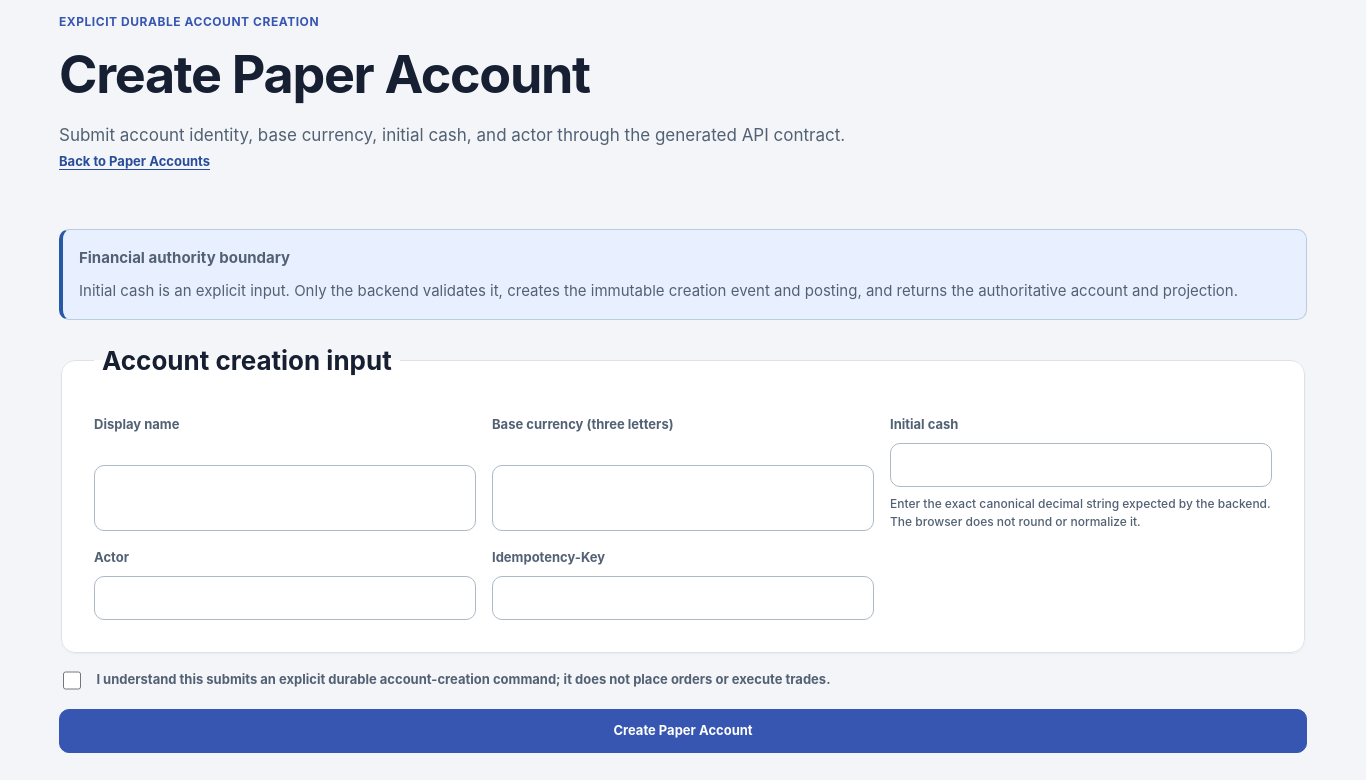
Test case: Founder Paper Account list and create workspace › submits exact creation strings and keeps navigation explicit
Type "Founder Account 186" into the field labelled "Display name" at (285, 498), box top-left (94, 465), bottom-right (476, 531)
Type "USD" into the field labelled "Base currency (three letters)" at (683, 498), box top-left (492, 465), bottom-right (874, 531)
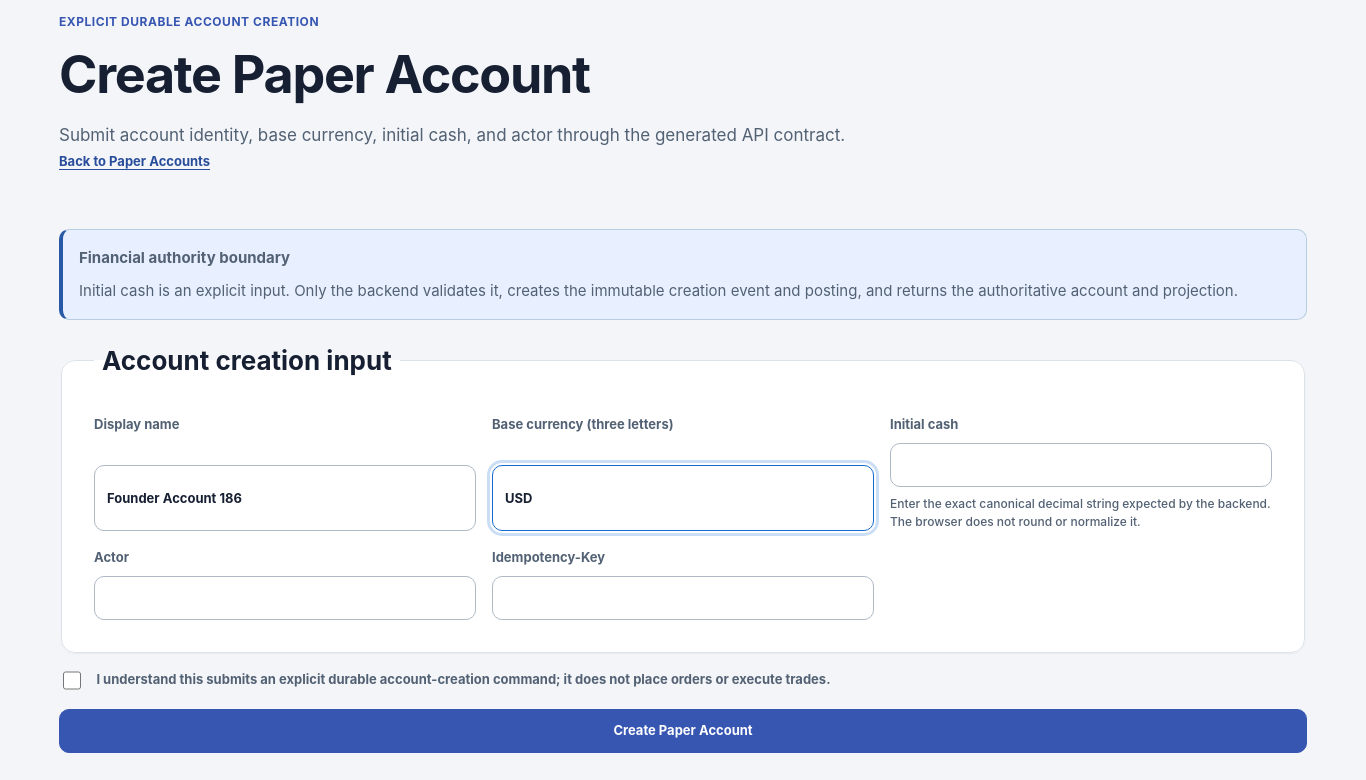
Type "1000.25" into the field labelled "Initial cash" at (1081, 465), box top-left (890, 443), bottom-right (1272, 487)
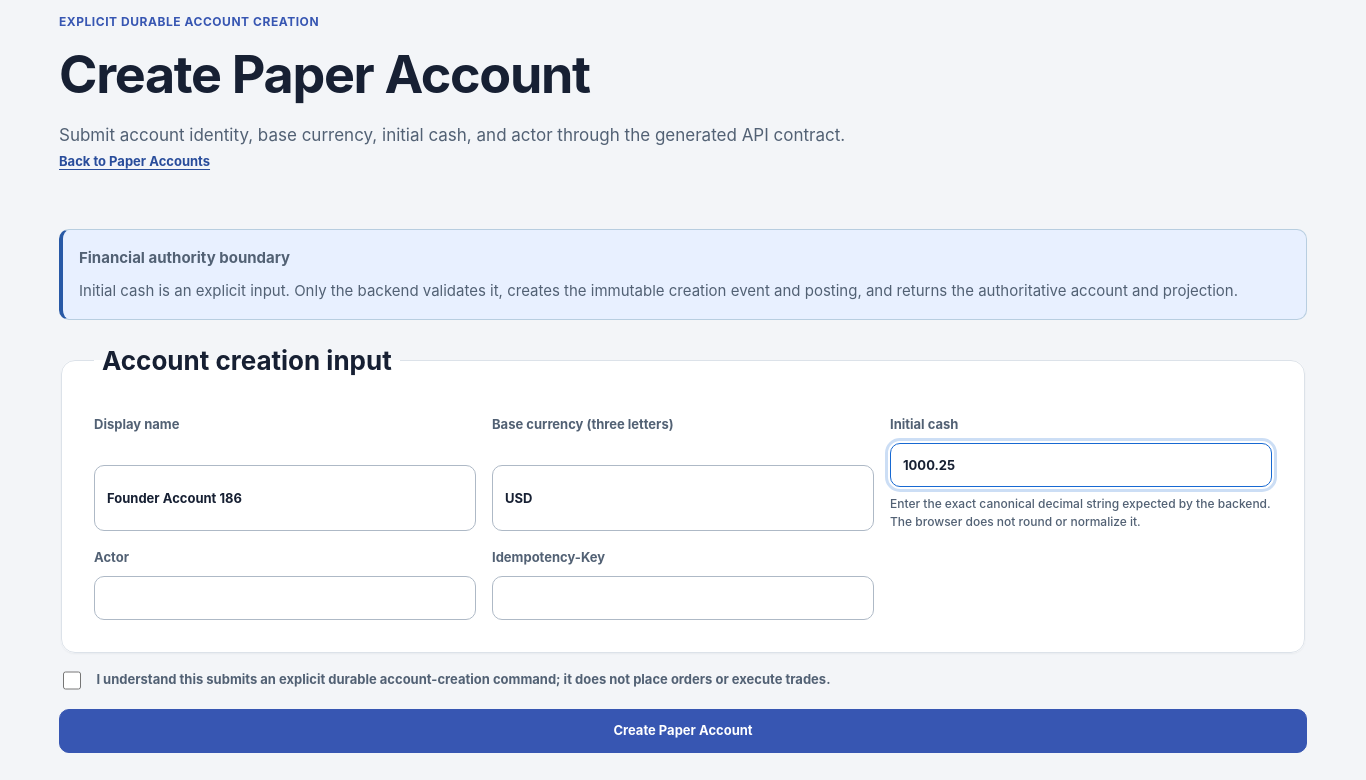
Type "founder" into the field labelled "Actor" at (285, 598), box top-left (94, 576), bottom-right (476, 620)
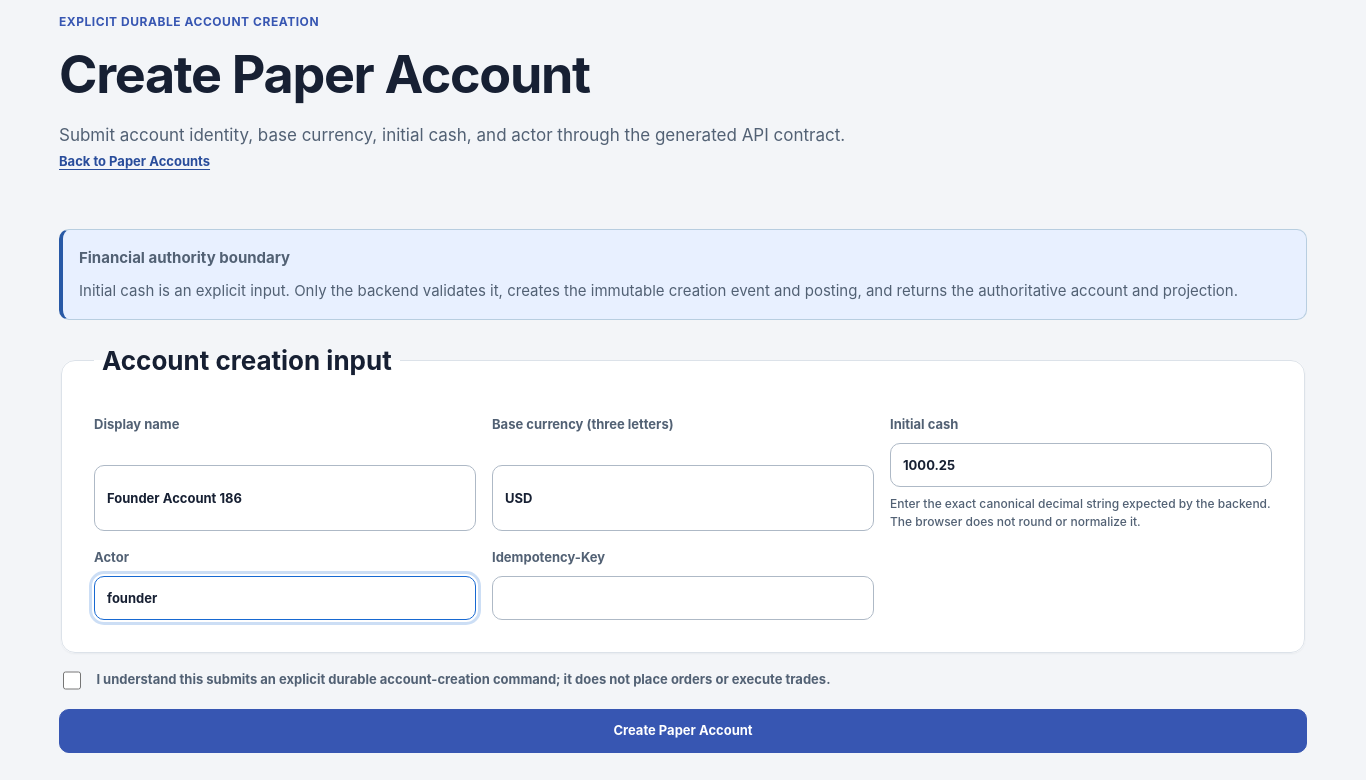
Type "Create:186" into the field labelled "Idempotency-Key" at (683, 598), box top-left (492, 576), bottom-right (874, 620)
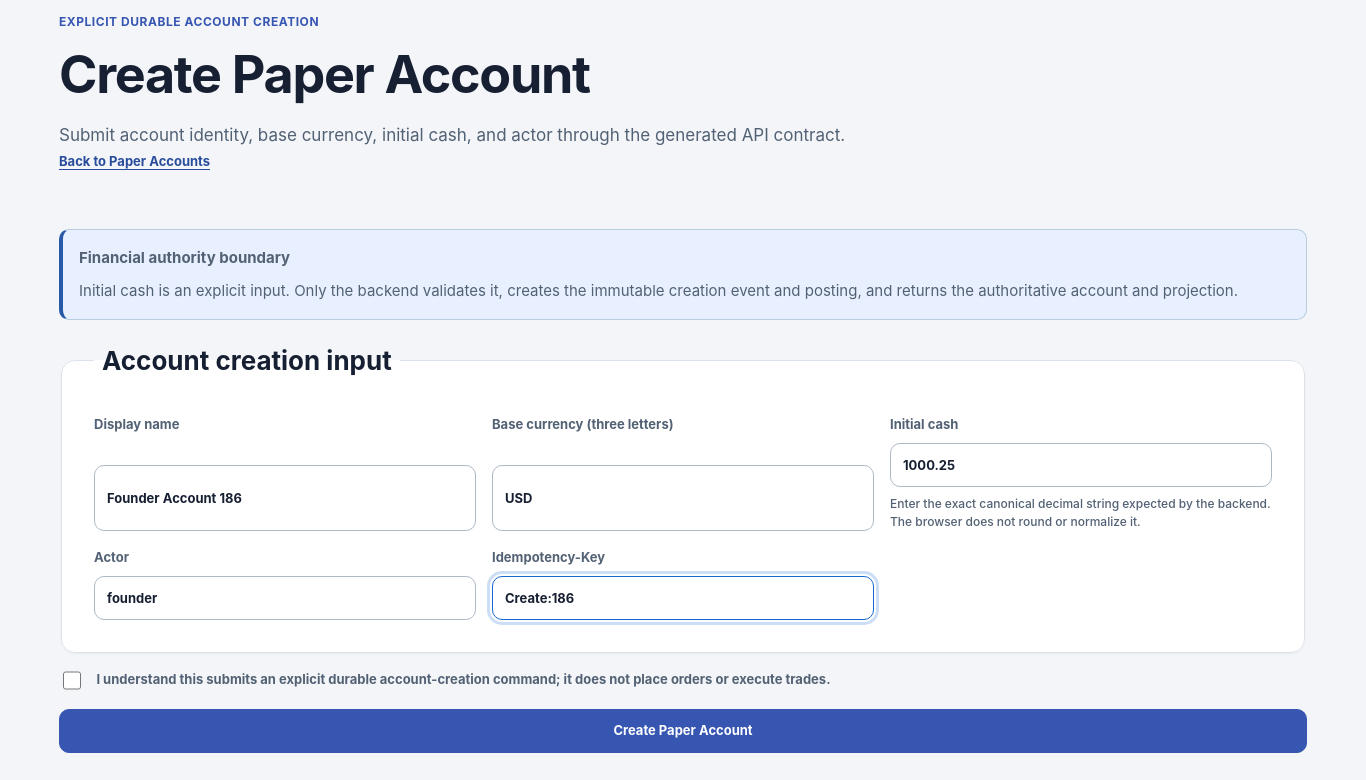
Click the checkbox at (72, 680), box top-left (63, 671), bottom-right (81, 690)
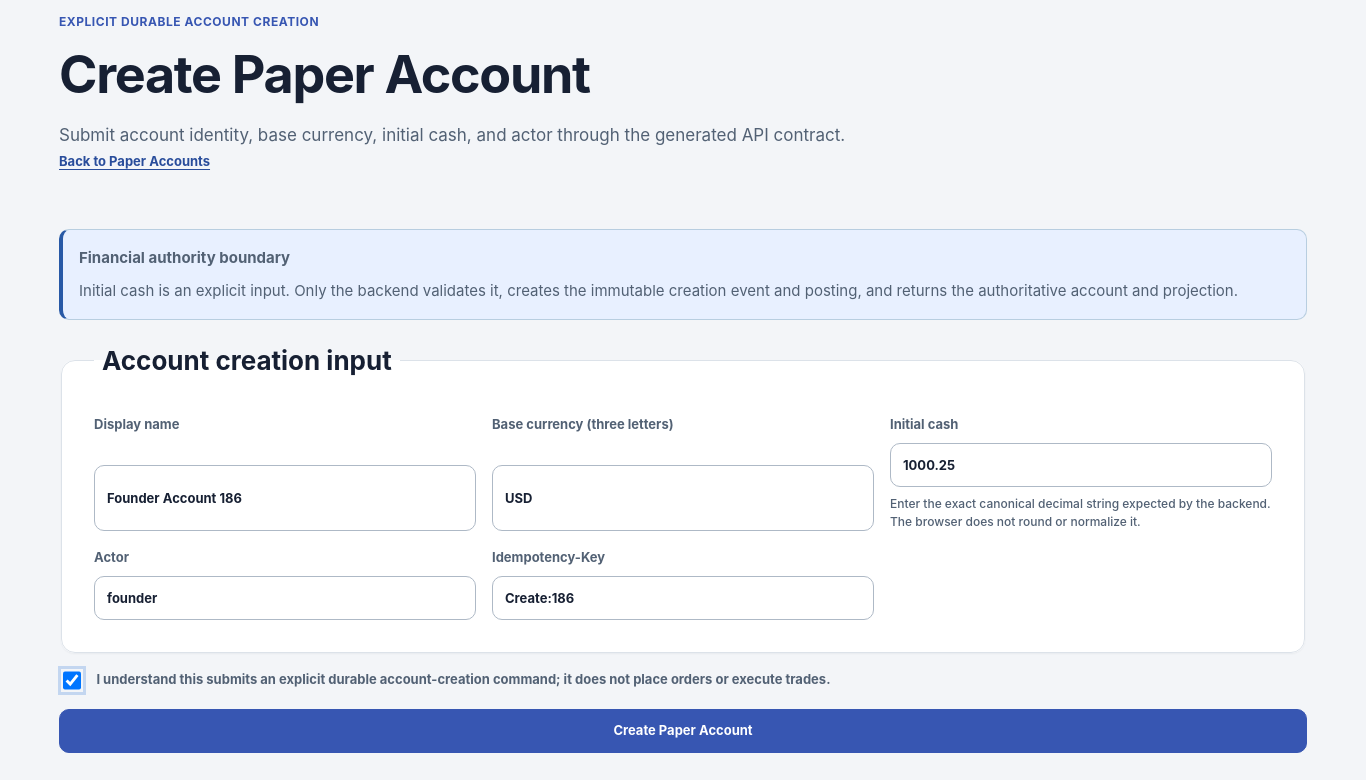
Click the button "Create Paper Account" at (683, 731), box top-left (59, 709), bottom-right (1307, 753)
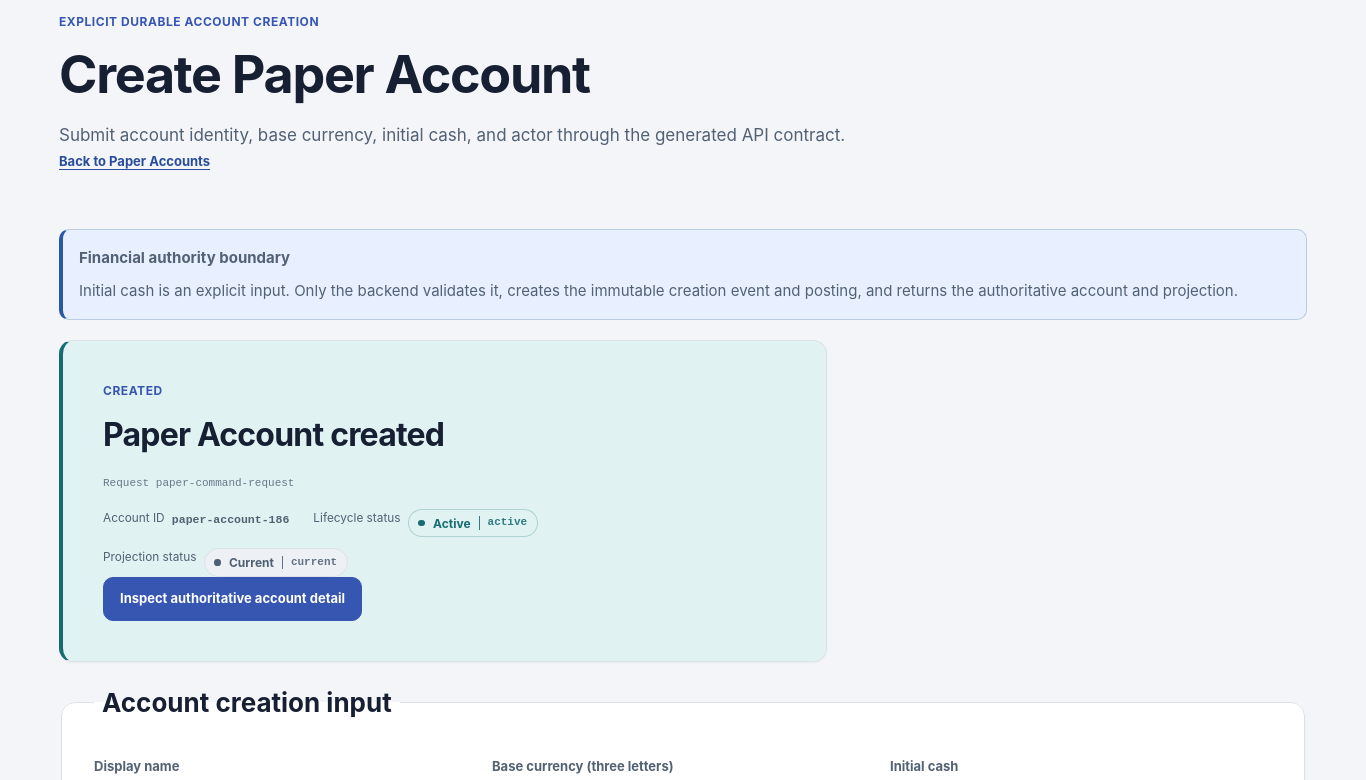
Expected: the heading "Paper Account created" is shown, top-left (103, 415), bottom-right (444, 454)
